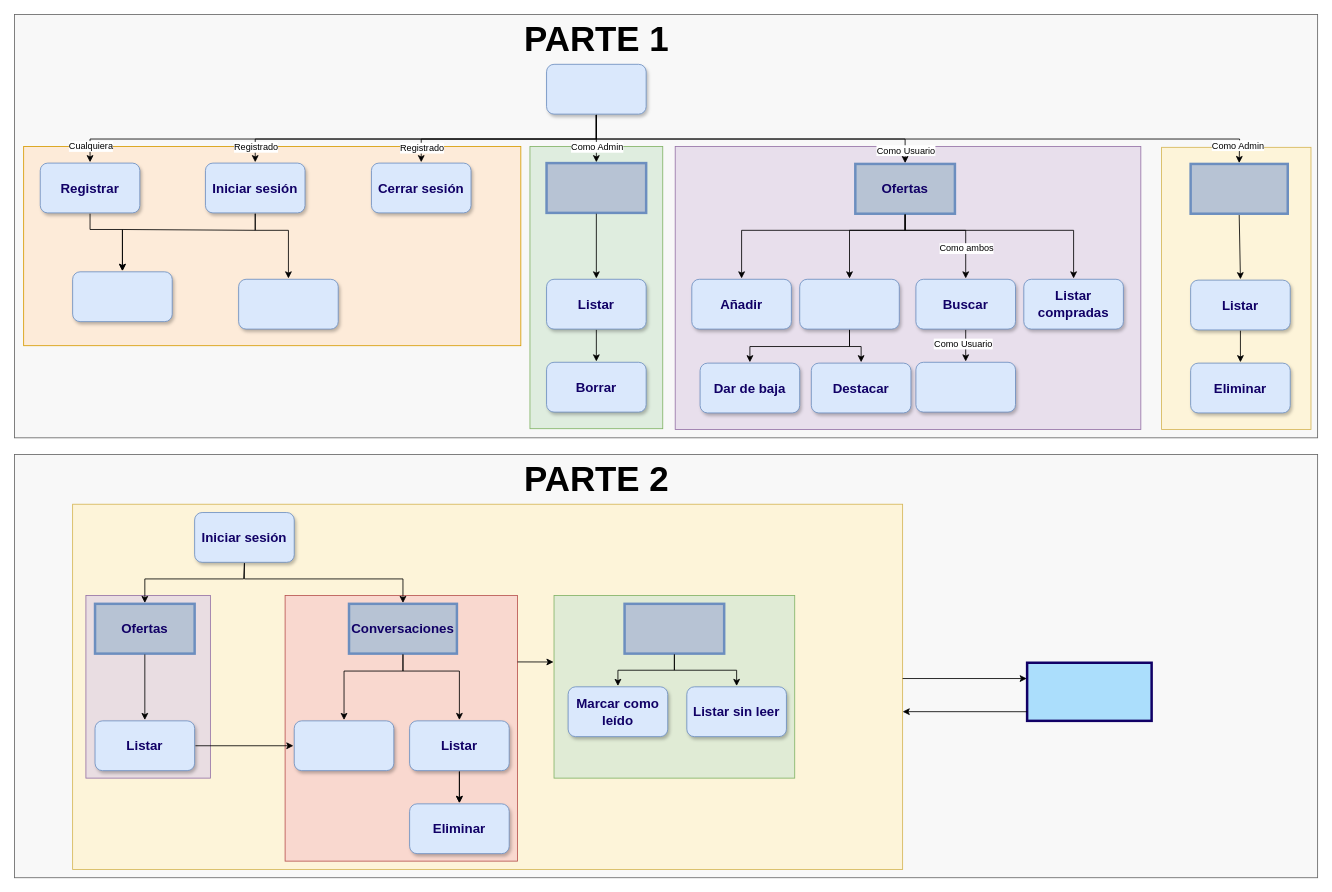
This 1332x892 diagram has some shape labels left out. Here are the shapes that lost their labels. From the top down, the centre of each, then its label:
At point 596,90: "Página Principal".
At point 596,187: "Usuarios".
At point 1239,188: "Registro".
At point 122,297: "Usuario".
At point 288,305: "Administrador".
At point 850,305: "Listar propias".
At point 966,388: "Comprar".
At point 674,628: "Mensajes".
At point 1088,691: "API REST".
At point 344,746: "Establecer".
